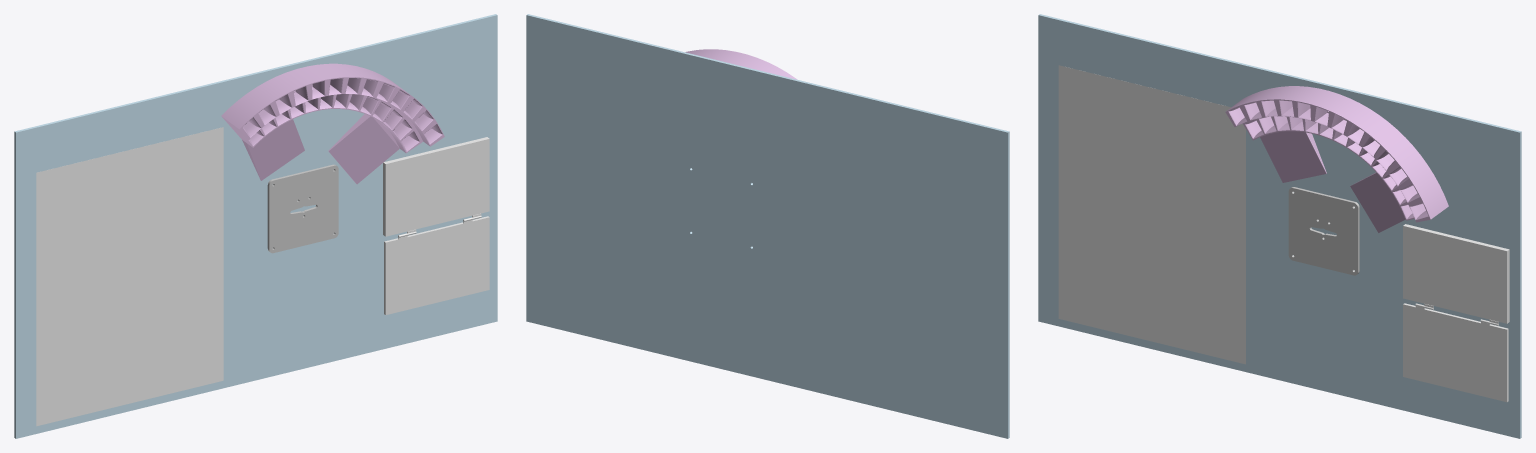
The model's file is Part Studio 1.glb.
3 renders of one model, left to right at view 1: azimuth 30°, elevation 25°; view 2: azimuth 150°, elevation 25°; view 3: azimuth 330°, elevation 25°, orthographic.
Visible parts, largest first — view 1: Base, 8 1/2 x 11" paper, Stamp holder, mesh547_mesh, mesh565_mesh, base_table_bottom, mesh524_mesh; view 2: Base, Stamp holder; view 3: Base, 8 1/2 x 11" paper, Stamp holder, mesh547_mesh, mesh565_mesh, base_table_bottom, mesh524_mesh.
Boxes of the visible parts, box(x1,y1,x2,y2) form: Base: box(14, 14, 497, 438); 8 1/2 x 11" paper: box(36, 127, 223, 426); Stamp holder: box(221, 63, 444, 184); mesh547_mesh: box(384, 216, 489, 314); mesh565_mesh: box(389, 144, 484, 230); base_table_bottom: box(267, 164, 338, 253); mesh524_mesh: box(383, 137, 489, 236); Base: box(526, 14, 1009, 438); Stamp holder: box(685, 49, 796, 79); Base: box(1038, 14, 1521, 438); 8 1/2 x 11" paper: box(1058, 65, 1245, 364); Stamp holder: box(1225, 86, 1448, 232); mesh547_mesh: box(1403, 303, 1508, 402); mesh565_mesh: box(1406, 231, 1501, 317); base_table_bottom: box(1288, 187, 1359, 275); mesh524_mesh: box(1403, 224, 1509, 325).
Size of the model in its own units: 0.5552 by 0.3375 by 0.0397.
